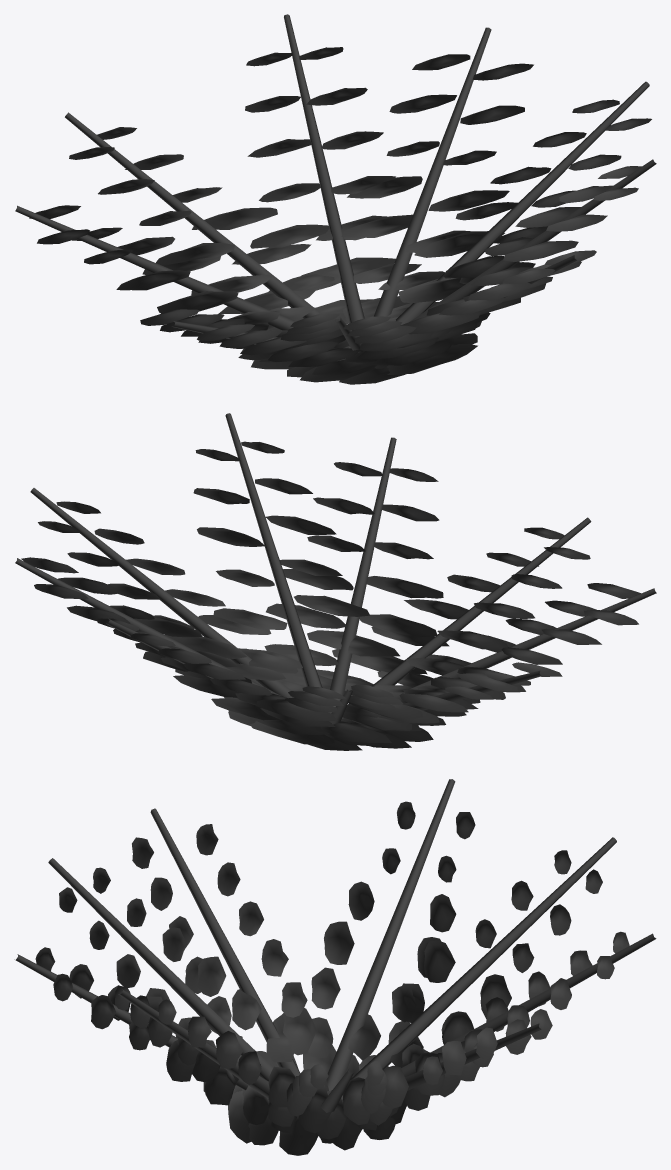
File: taiga_fern.glb
3 views of the same model, one above another, from view 1: azimuth 30°, elevation 25°; view 2: azimuth 150°, elevation 25°; view 3: azimuth 270°, elevation 25° (orthographic). The views are drawn at different scales.
Parts seen in each view (by area): view 1: foliage, bark; view 2: foliage, bark; view 3: foliage, bark.
Boxes of the visible parts, bbox=[...] form: foliage: bbox=[29, 47, 651, 384]; bark: bbox=[15, 14, 656, 352]; foliage: bbox=[21, 441, 640, 750]; bark: bbox=[15, 413, 656, 727]; foliage: bbox=[35, 801, 629, 1155]; bark: bbox=[14, 779, 656, 1112].
Size of the model in its own units: 1.9 by 0.6992 by 1.67.
Materials: 1 (1 with a texture image).
